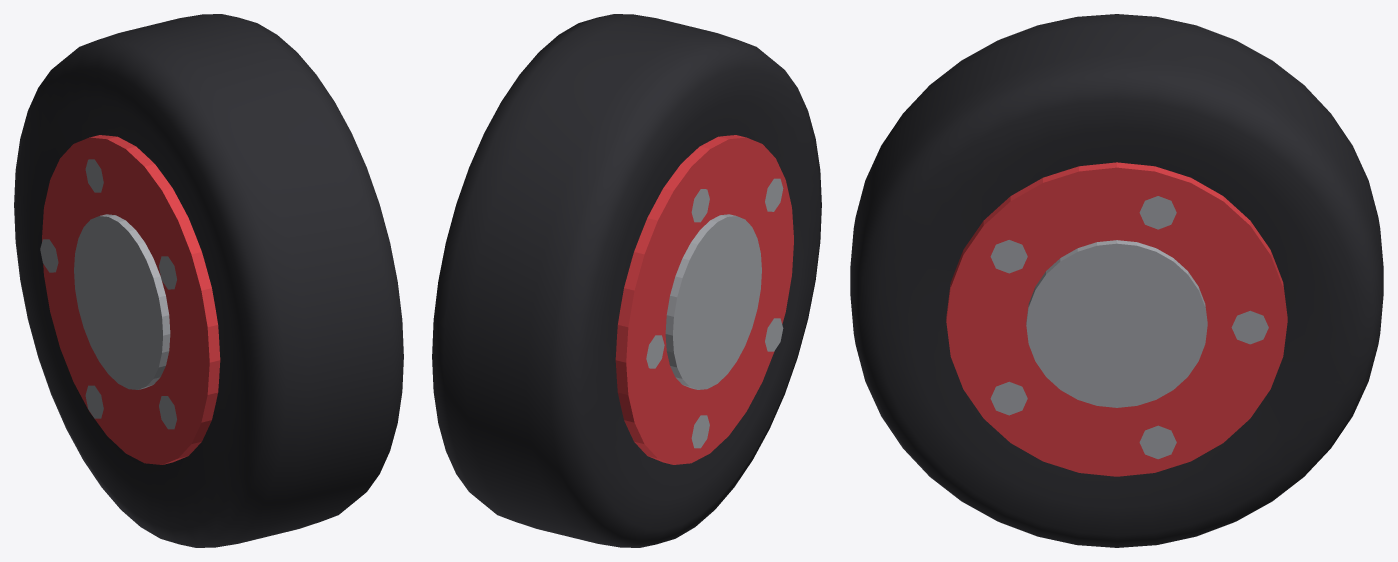
Rendered from bus_wheel_a2_L.glb.
The picture shows the model from 3 angles, left to right: view 1: azimuth 30°, elevation 25°; view 2: azimuth 150°, elevation 25°; view 3: azimuth 270°, elevation 25°; orthographic projection.
Visible parts, largest first — view 1: bus_wheel_a2_L; view 2: bus_wheel_a2_L; view 3: bus_wheel_a2_L.
Part boxes in pixels (x1,y1,x2,y2): bus_wheel_a2_L: (14,14,403,547); bus_wheel_a2_L: (432,14,821,547); bus_wheel_a2_L: (850,14,1383,547).
Bounding box in the file's own units: 0.52 × 1.26 × 1.26.
